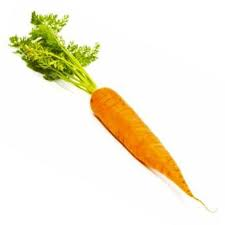carrot: (81, 79, 203, 206)
